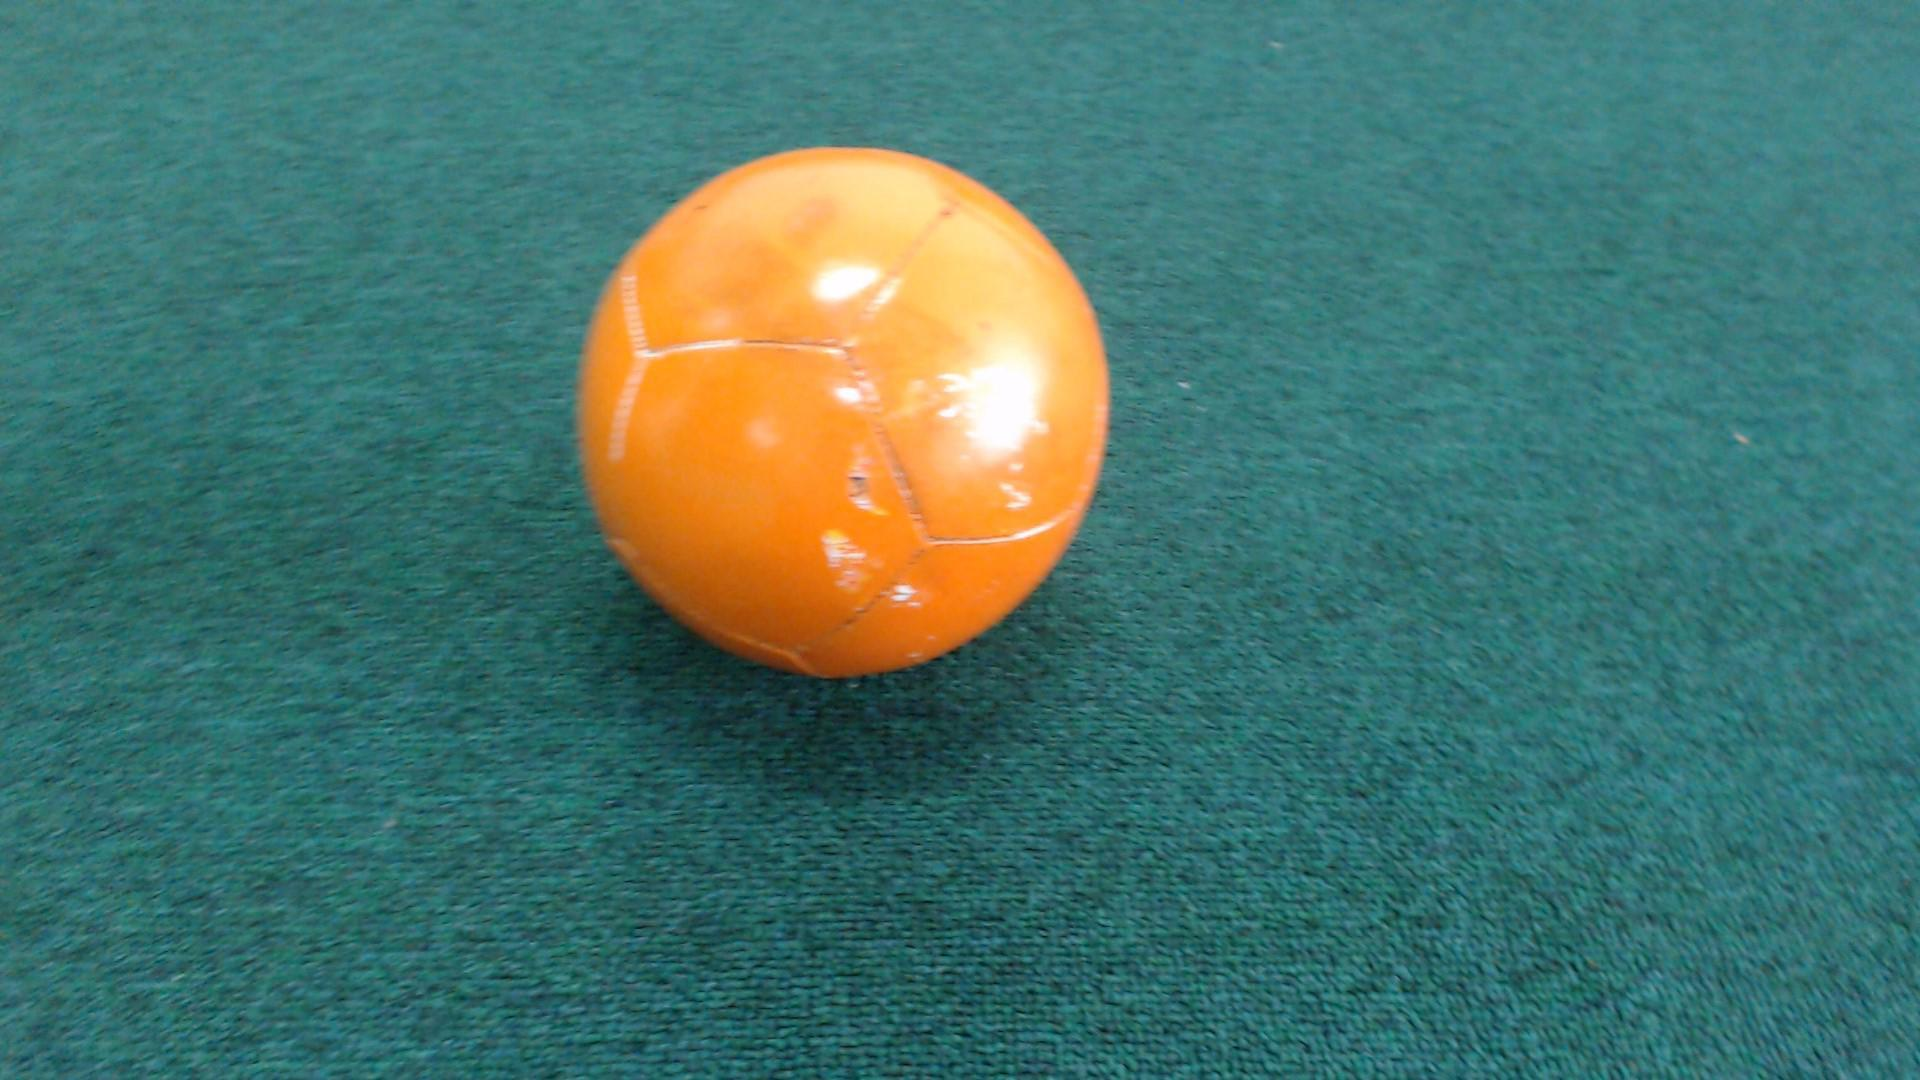bola: (534, 129, 1127, 704)
